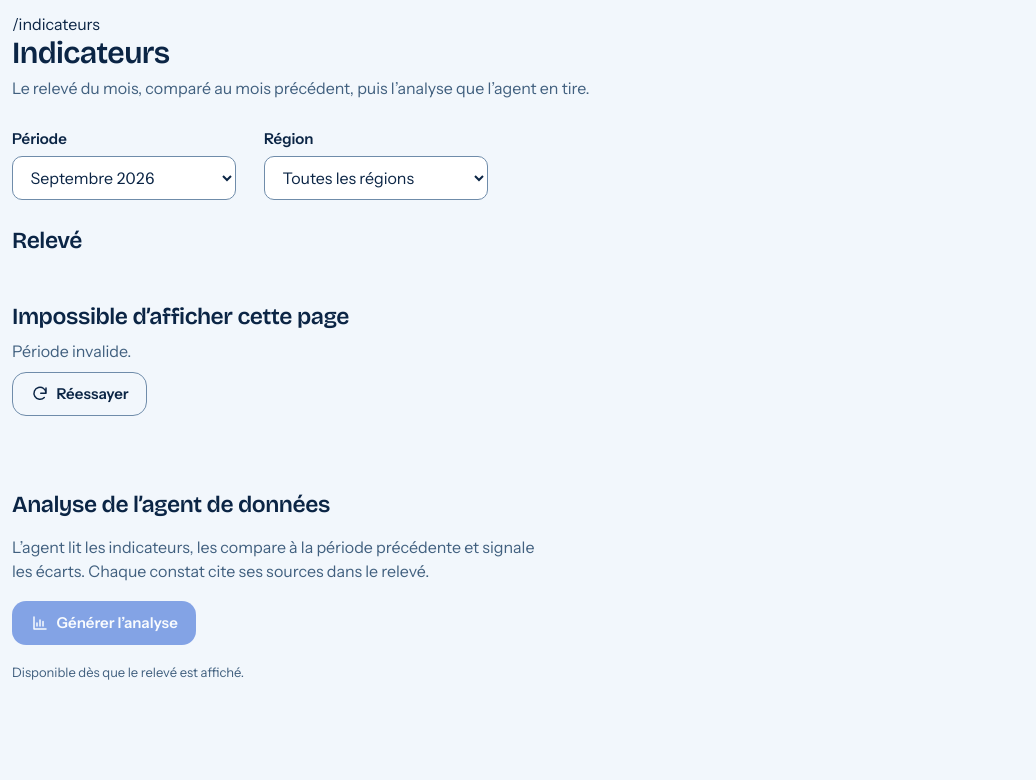
Scenario: relevé des indicateurs › affiche une erreur avec Réessayer, et recharge au clic
Expected: the text "Période invalide." is shown, [12, 338, 132, 362]
Click the button "Réessayer" at x=80, y=394, box [12, 372, 147, 416]
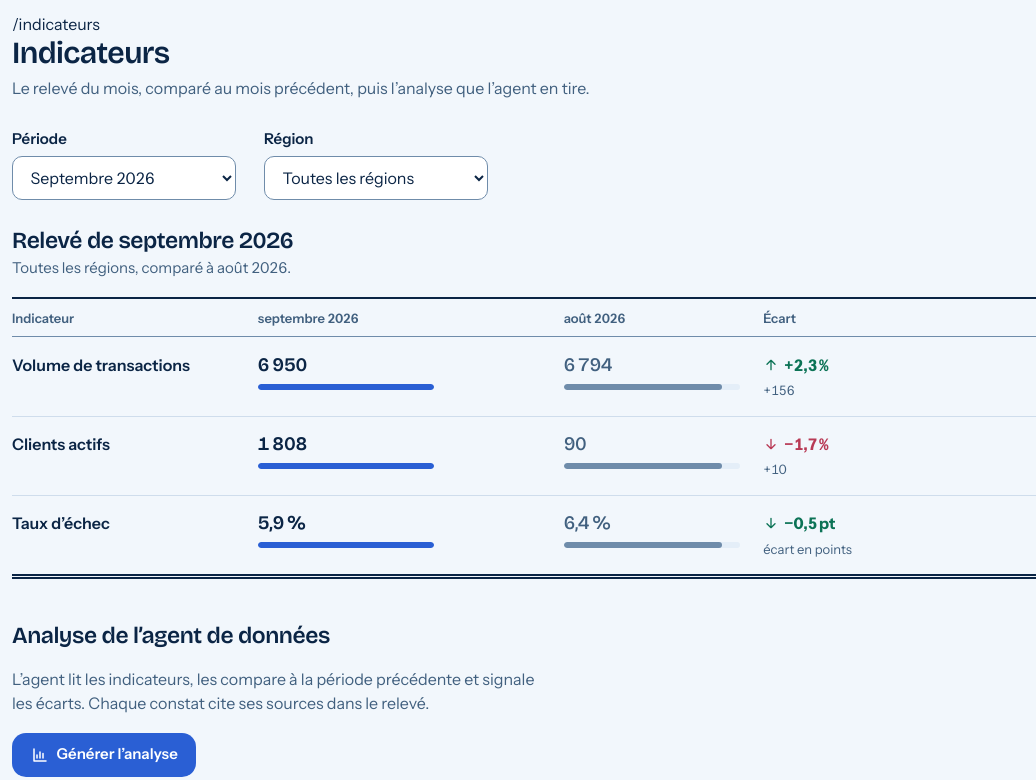
Expected: the table is shown, [12, 299, 1035, 574]
